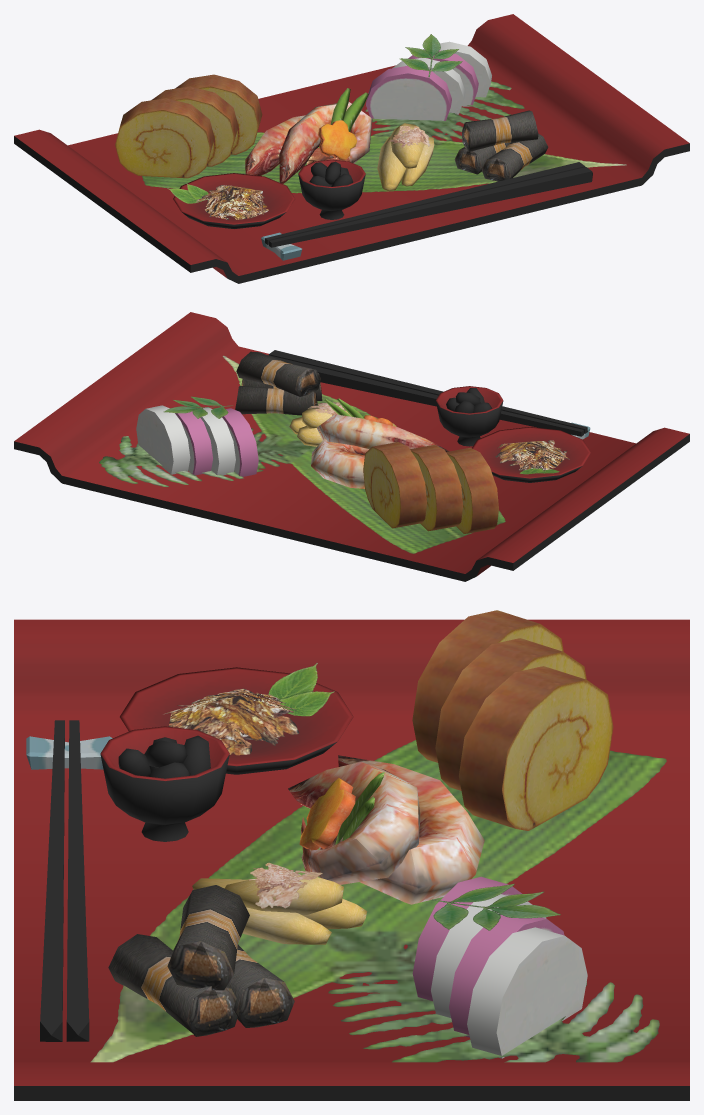
File: Osechi01.fbx
3 renders of one model, top to bottom at view 1: azimuth 30°, elevation 25°; view 2: azimuth 150°, elevation 25°; view 3: azimuth 270°, elevation 25°, orthographic. The views are drawn at different scales.
Visible parts, largest first — view 1: Osechi01; view 2: Osechi01; view 3: Osechi01.
Part boxes in pixels (<box>): Osechi01: <box>14,14,689,283</box>; Osechi01: <box>14,312,689,581</box>; Osechi01: <box>14,610,689,1100</box>.
Size of the model in its own units: 32.63 by 4.79 by 20.
